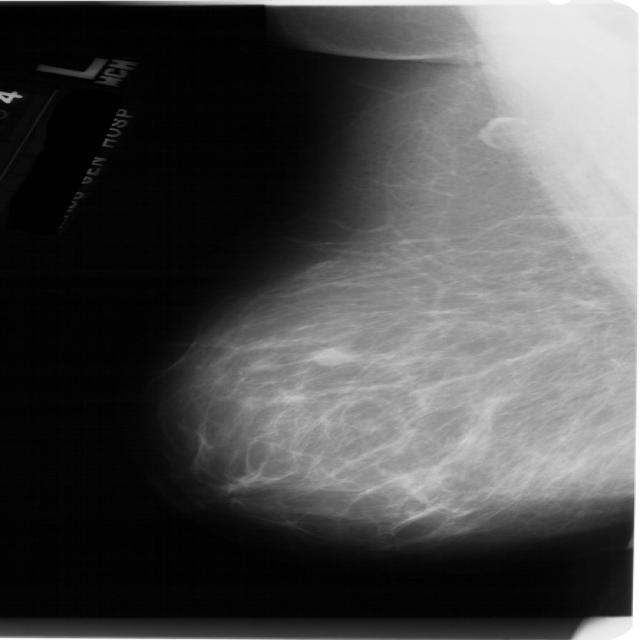tumour: (308, 348, 352, 365)
